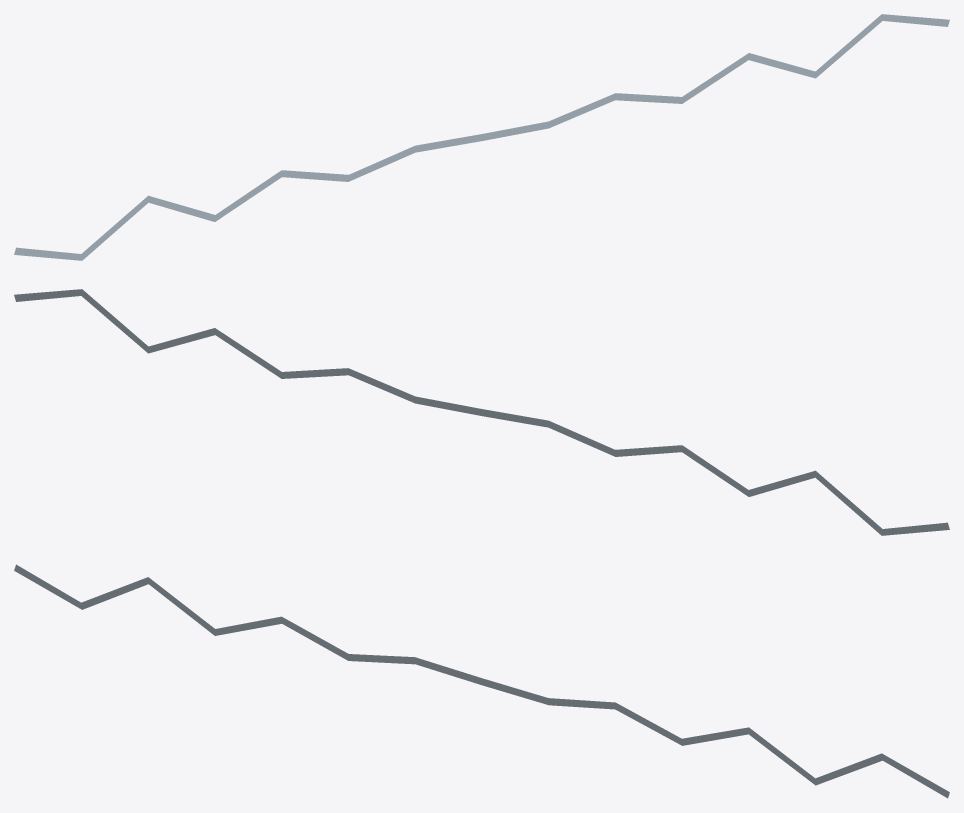
The model's file is 2029_HighVoltageArc_SynchronizedArc1Core.fbx.
The picture shows the model from 3 angles, top to bottom: view 1: azimuth 30°, elevation 25°; view 2: azimuth 150°, elevation 25°; view 3: azimuth 330°, elevation 25°; orthographic projection.
Visible parts, largest first — view 1: PART_SynchronizedArc1Core; view 2: PART_SynchronizedArc1Core; view 3: PART_SynchronizedArc1Core.
Boxes of the visible parts, x1,y1,x2,y2 form: PART_SynchronizedArc1Core: (14,14,949,260); PART_SynchronizedArc1Core: (14,289,949,535); PART_SynchronizedArc1Core: (14,564,949,798).
Size of the model in its own units: 330 by 17.4 by 2.83e-06.
